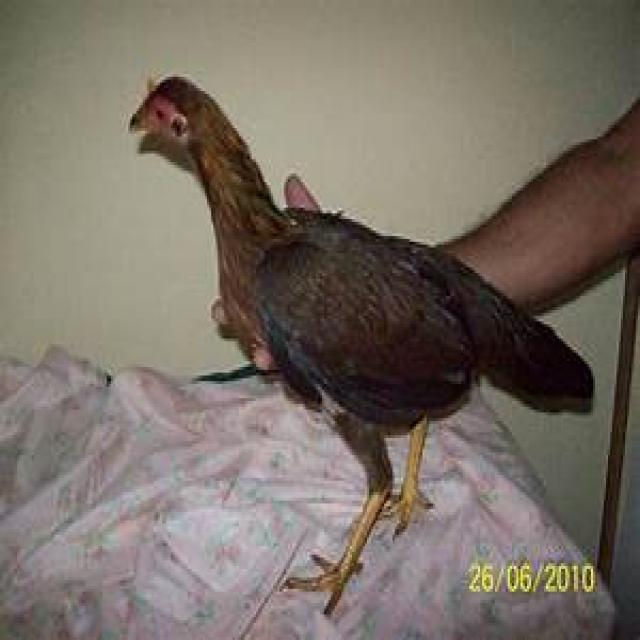hen: (128, 77, 593, 609)
